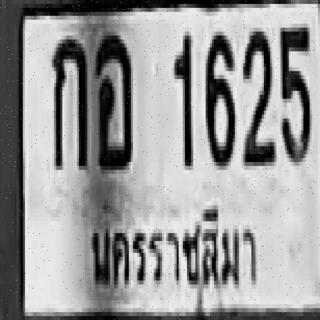A01: (50, 36, 85, 166)
A43: (94, 32, 131, 166)
N01: (172, 30, 191, 164)
N02: (242, 28, 273, 162)
N05: (278, 24, 310, 162)
N06: (204, 28, 233, 162)
P30: (85, 204, 260, 295)
